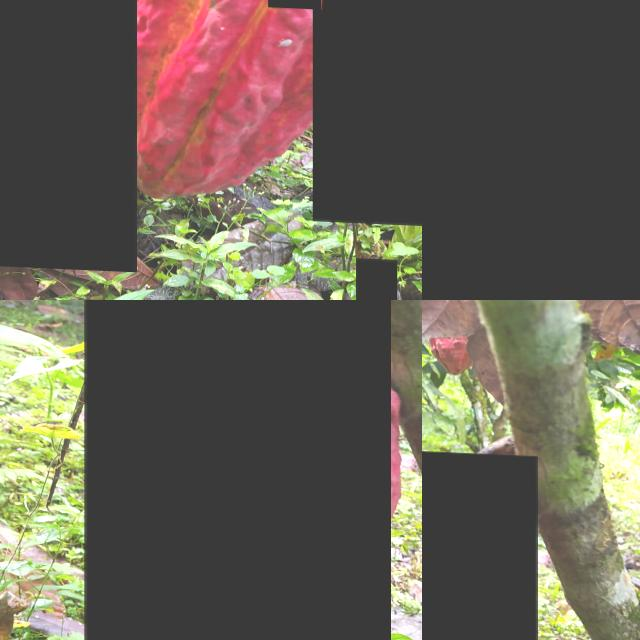Fitoftora: (0, 0, 137, 270)
Monilia: (84, 300, 390, 640), (422, 0, 640, 300), (312, 0, 422, 225)
Sana: (422, 442, 537, 640), (356, 254, 397, 300)
